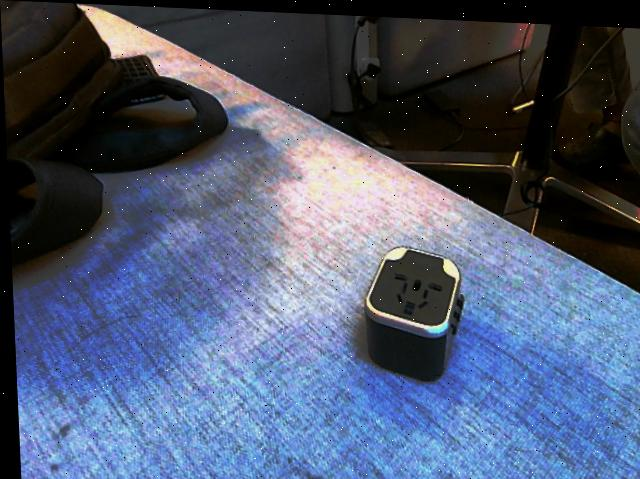adapter: (357, 241, 463, 379)
